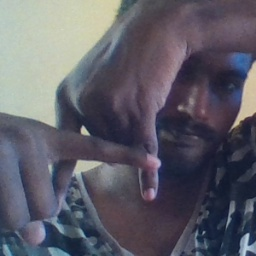H: (34, 87, 170, 218)
